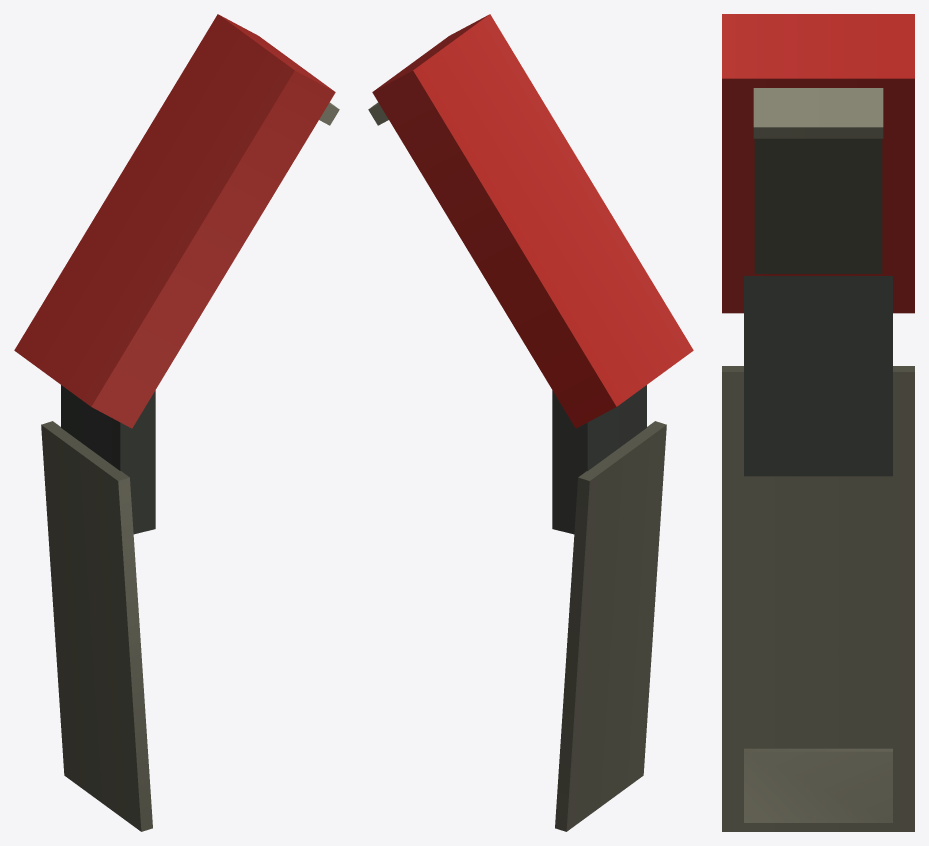
The model's file is SK_Stapler2.fbx.
The picture shows the model from 3 angles, left to right: view 1: azimuth 30°, elevation 25°; view 2: azimuth 150°, elevation 25°; view 3: azimuth 270°, elevation 25°; orthographic projection. The views are drawn at different scales.
Parts seen in each view (by area): view 1: grapadora.006, grapadora.007, grapadora.005; view 2: grapadora.006, grapadora.007, grapadora.005; view 3: grapadora.007, grapadora.006, grapadora.005.
Part boxes in pixels (x1,y1,x2,y2): grapadora.006: (14,14,339,428); grapadora.007: (41,421,152,831); grapadora.005: (61,385,155,534); grapadora.006: (368,14,693,428); grapadora.007: (555,421,666,831); grapadora.005: (552,385,646,534); grapadora.007: (722,366,914,831); grapadora.006: (722,14,914,313); grapadora.005: (744,276,892,476).
Bounding box in the file's own units: 31.01 × 82.17 × 15.86.
